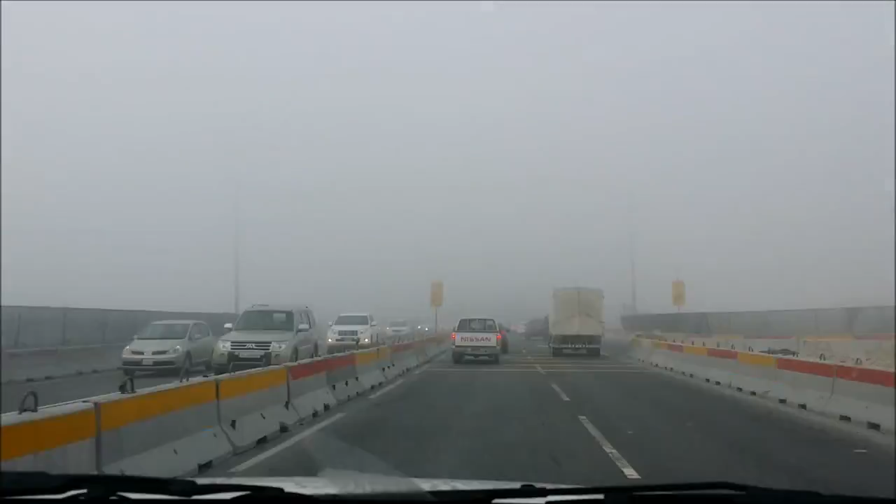car: (210, 301, 319, 375), (119, 317, 220, 378), (546, 284, 605, 360), (451, 316, 503, 365), (324, 312, 376, 353), (385, 316, 413, 340), (523, 317, 551, 341)
